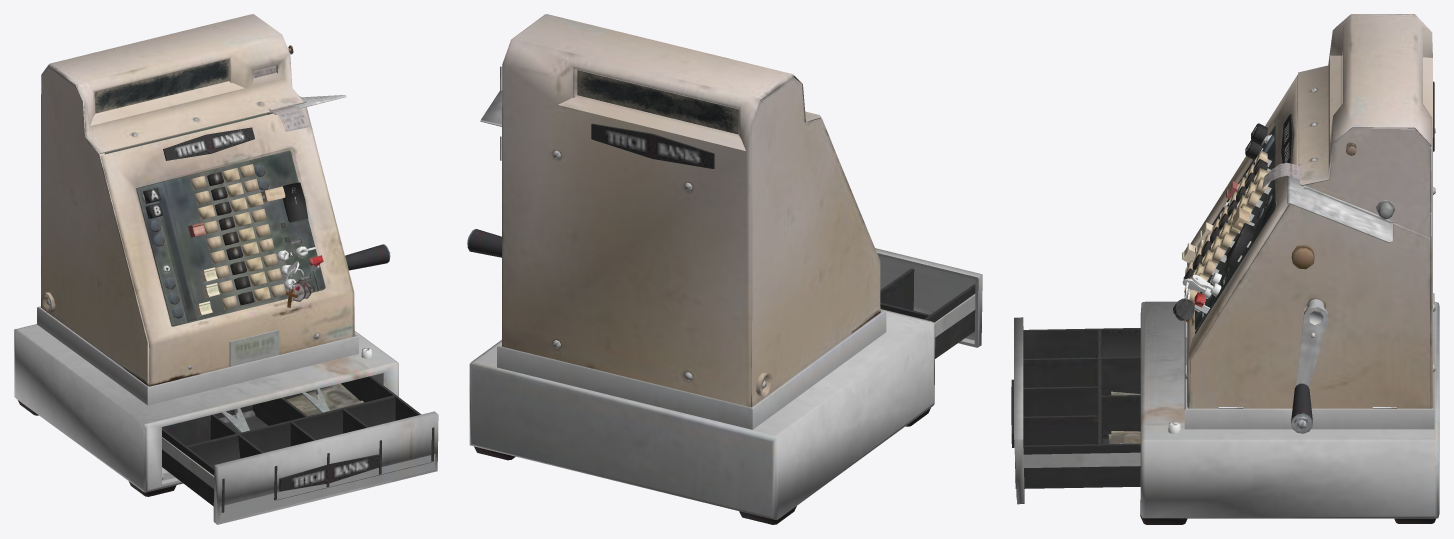
Rendered from cashregister_01.glb.
The picture shows the model from 3 angles, left to right: view 1: azimuth 30°, elevation 25°; view 2: azimuth 150°, elevation 25°; view 3: azimuth 270°, elevation 25°; orthographic projection. The views are drawn at different scales.
Parts seen in each view (by area): view 1: CashRegister_01_body, CashRegister_011_drawer; view 2: CashRegister_01_body, CashRegister_011_drawer; view 3: CashRegister_01_body, CashRegister_011_drawer.
Boxes of the visible parts, x1,y1,x2,y2 form: CashRegister_01_body: (14, 14, 398, 496); CashRegister_011_drawer: (162, 376, 438, 524); CashRegister_01_body: (467, 14, 935, 524); CashRegister_011_drawer: (875, 248, 982, 358); CashRegister_01_body: (1140, 14, 1439, 524); CashRegister_011_drawer: (1011, 317, 1140, 504).
Bounding box in the file's own units: 0.6005 × 0.6211 × 0.6242.
2 materials, 2 textured.
